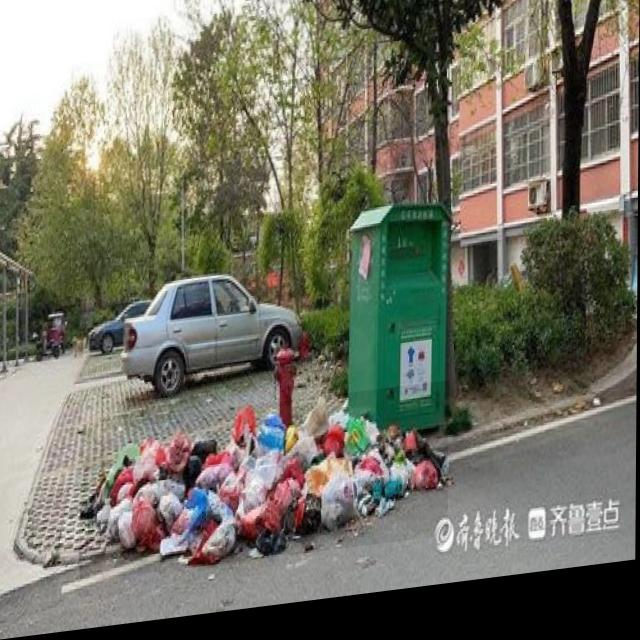garbage: (81, 392, 449, 584)
